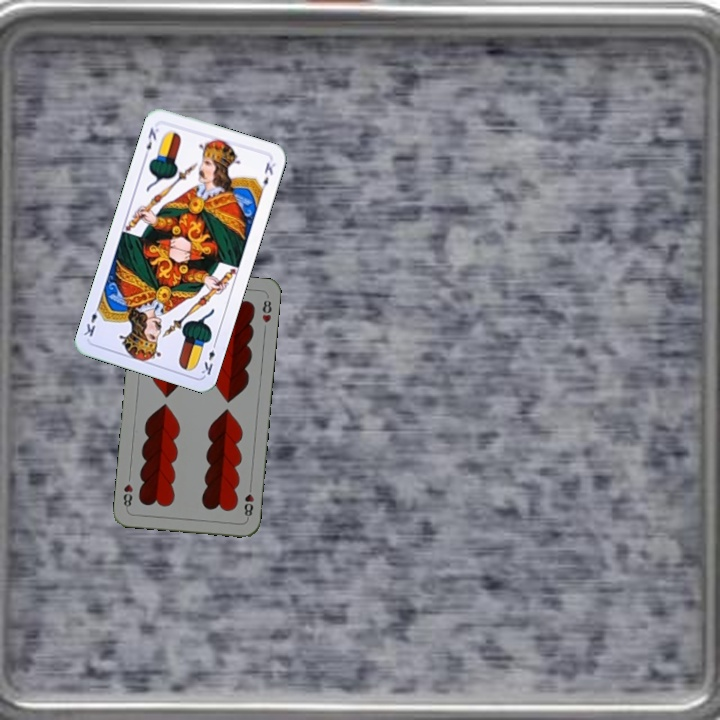EK: (197, 337, 219, 378), (140, 123, 161, 160)
H8: (240, 481, 256, 521)
